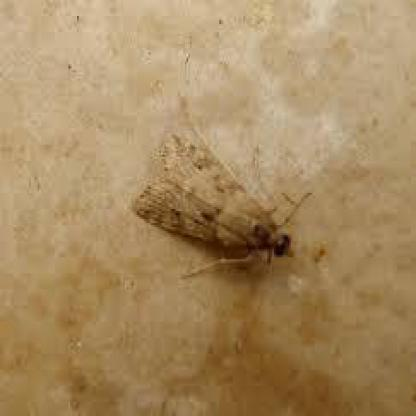Hellula undalis: (124, 120, 322, 362)
